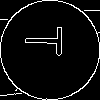T: (25, 25, 72, 57)
